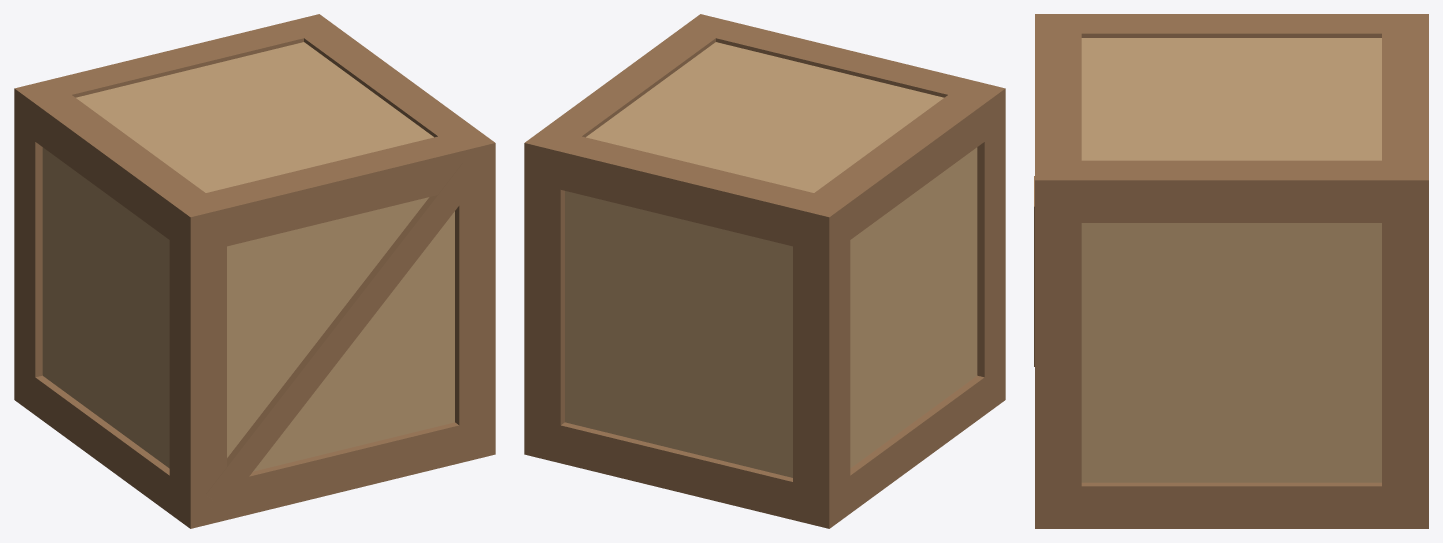
File: SM_Crate_Small.glb
3 views of the same model, side by side, from view 1: azimuth 30°, elevation 25°; view 2: azimuth 150°, elevation 25°; view 3: azimuth 270°, elevation 25° (orthographic). The views are drawn at different scales.
Visible parts, largest first — view 1: SM_Crate_Small; view 2: SM_Crate_Small; view 3: SM_Crate_Small.
Part boxes in pixels (x1=…): SM_Crate_Small: x1=14, y1=14, x2=495, y2=528; SM_Crate_Small: x1=524, y1=14, x2=1005, y2=528; SM_Crate_Small: x1=1034, y1=14, x2=1428, y2=528.
Bounding box in the file's own units: 0.504 × 0.492 × 0.505.
